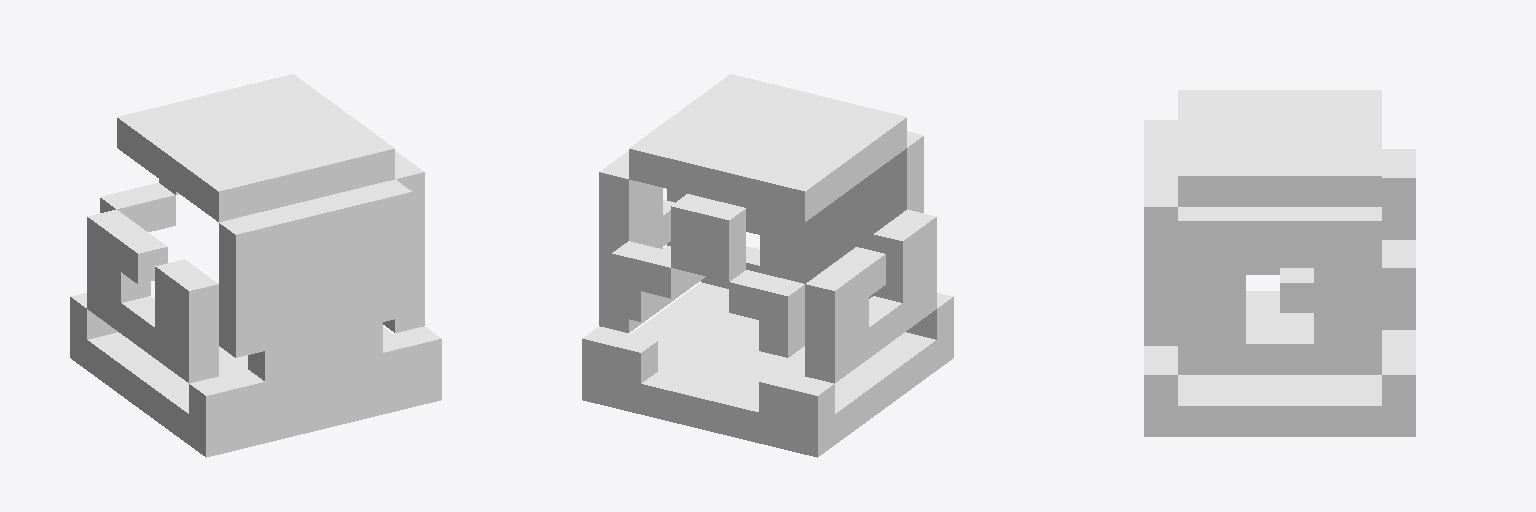
Rendered from RoboZomboHeadNoCol.obj.
3 renders of one model, left to right at view 1: azimuth 30°, elevation 25°; view 2: azimuth 150°, elevation 25°; view 3: azimuth 270°, elevation 25°, orthographic.
Size of the model in its own units: 8 by 8 by 8.